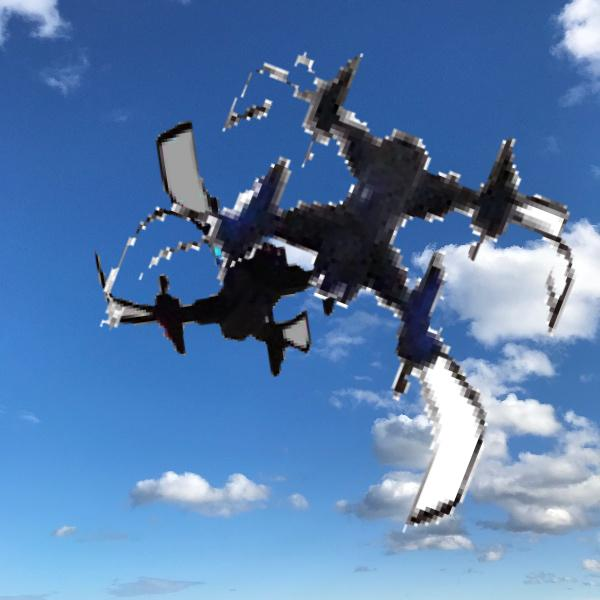drone: (102, 32, 584, 514), (95, 89, 403, 397)
